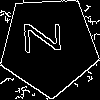Z: (24, 20, 70, 54)
